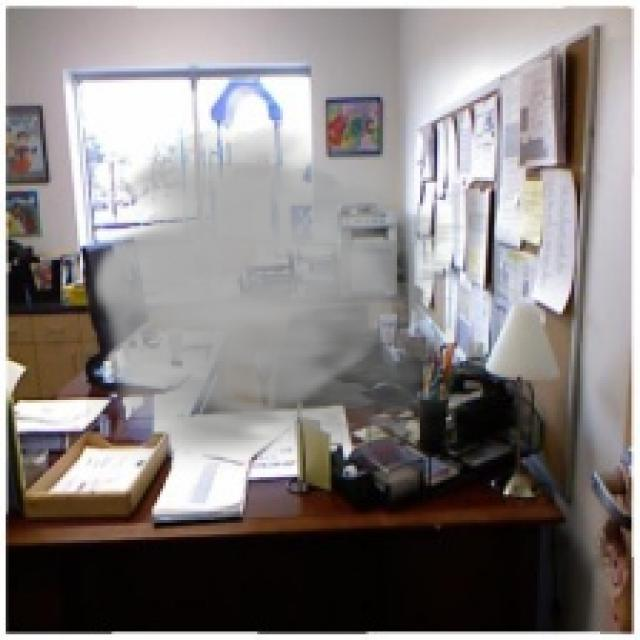Smoke: (86, 126, 506, 474)
